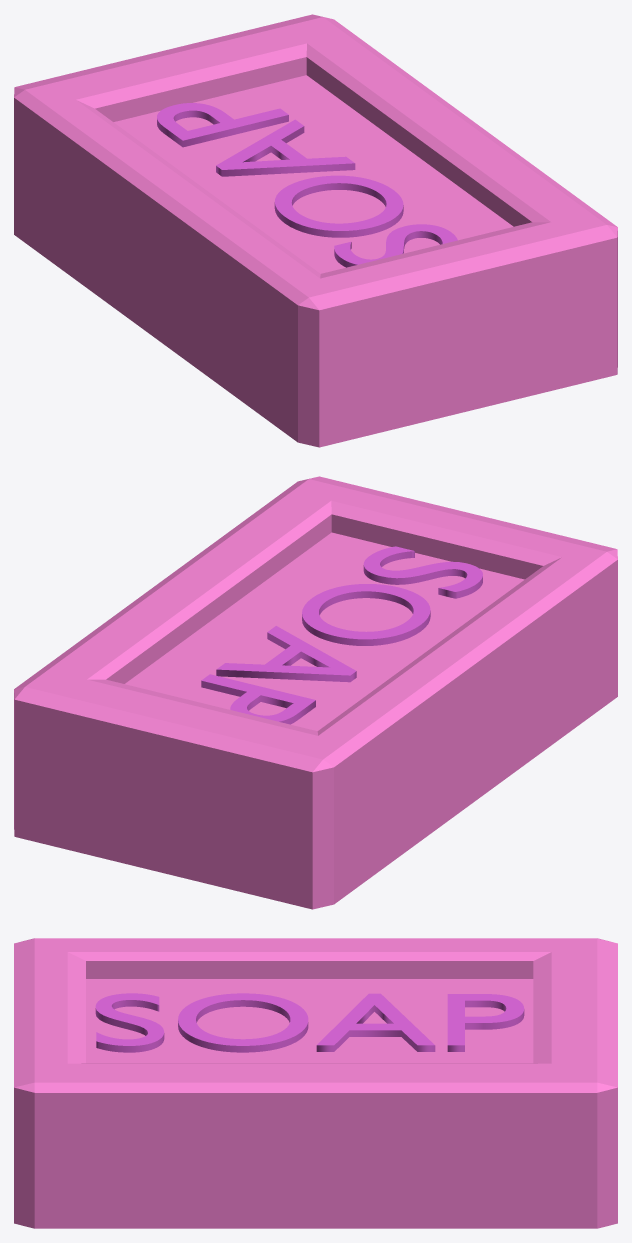
The model's file is Soap.fbx.
3 views of the same model, one above another, from view 1: azimuth 30°, elevation 25°; view 2: azimuth 150°, elevation 25°; view 3: azimuth 270°, elevation 25° (orthographic).
Parts seen in each view (by area): view 1: Cube, dddd; view 2: Cube, dddd; view 3: Cube, dddd.
Part boxes in pixels (x1,y1,x2,y2): Cube: (14, 14, 617, 447); dddd: (157, 103, 457, 267); Cube: (14, 476, 617, 909); dddd: (201, 546, 482, 724); Cube: (14, 938, 617, 1228); dddd: (95, 993, 524, 1052).
Bounding box in the file's own units: 121 × 53.33 × 200.
